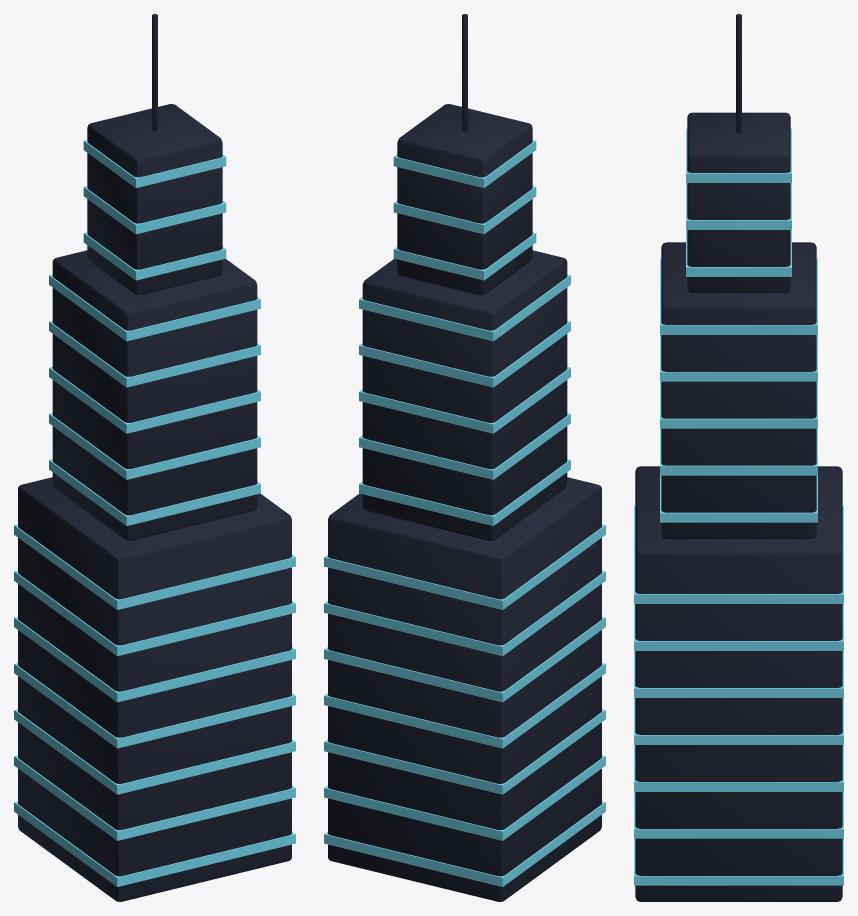
Rendered from Tower.fbx.
3 renders of one model, left to right at view 1: azimuth 30°, elevation 25°; view 2: azimuth 150°, elevation 25°; view 3: azimuth 270°, elevation 25°, orthographic.
Parts seen in each view (by area): view 1: Tower; view 2: Tower; view 3: Tower.
Part boxes in pixels (x1,y1,x2,y2): Tower: [14, 14, 295, 901]; Tower: [324, 14, 605, 901]; Tower: [634, 14, 843, 901].
Bounding box in the file's own units: 1620 × 7200 × 1620.
